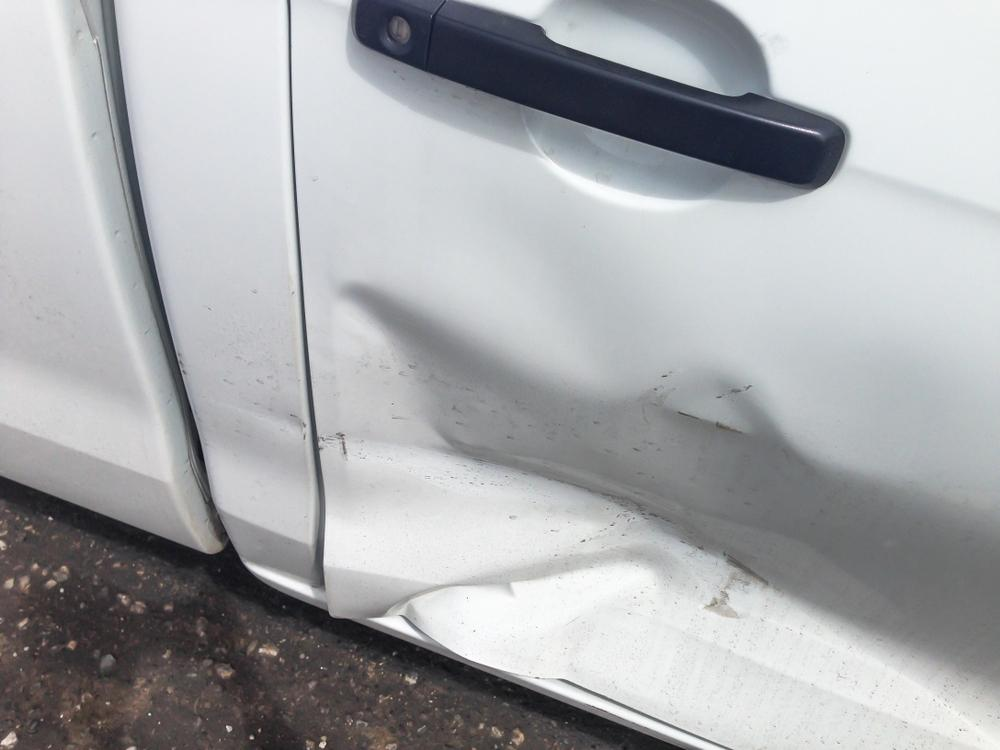dent: (331, 278, 993, 686)
